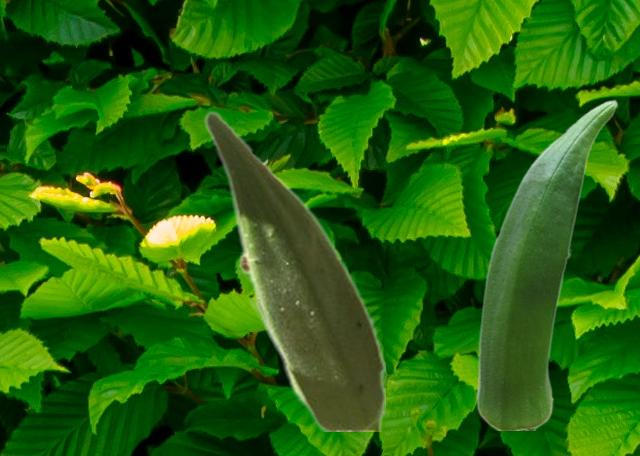okra: (203, 109, 384, 430), (475, 99, 617, 429)
